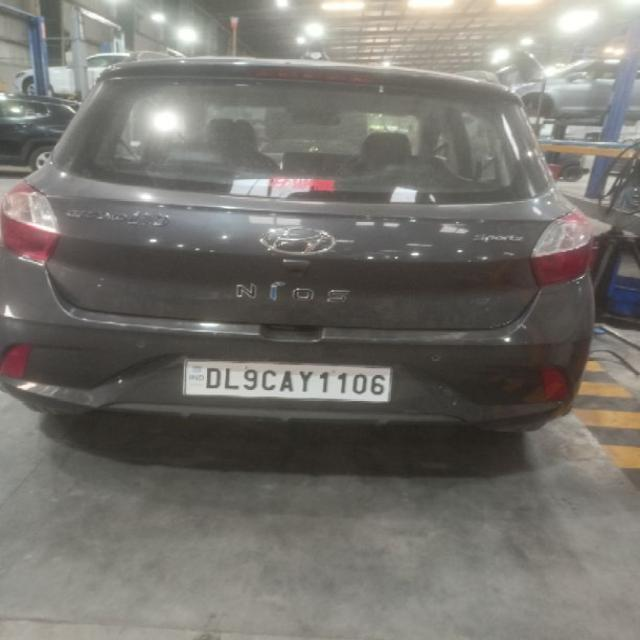license_plate: (180, 358, 393, 402)
